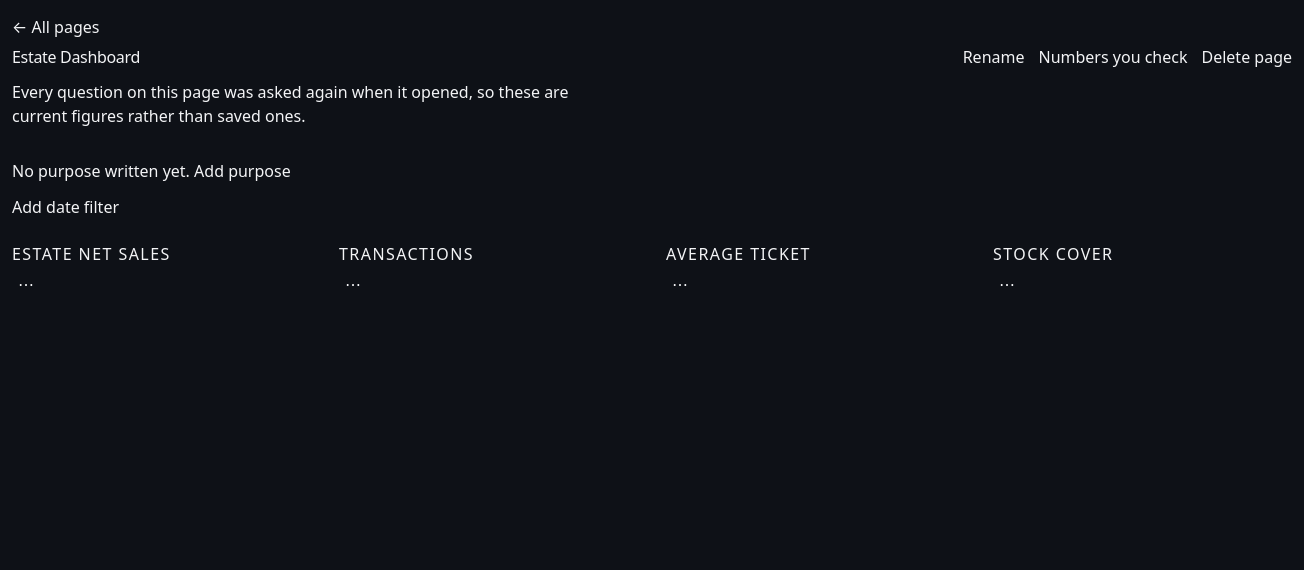
Test: the owner says what the page is › says a derived kind was worked out rather than chosen
Expected: the 1st element with class "r-kept-pin" is shown, [12,222,311,490]
Step 1. Click the button with aria-label "What this page is" → (1113,57), box [1038,42,1188,72]
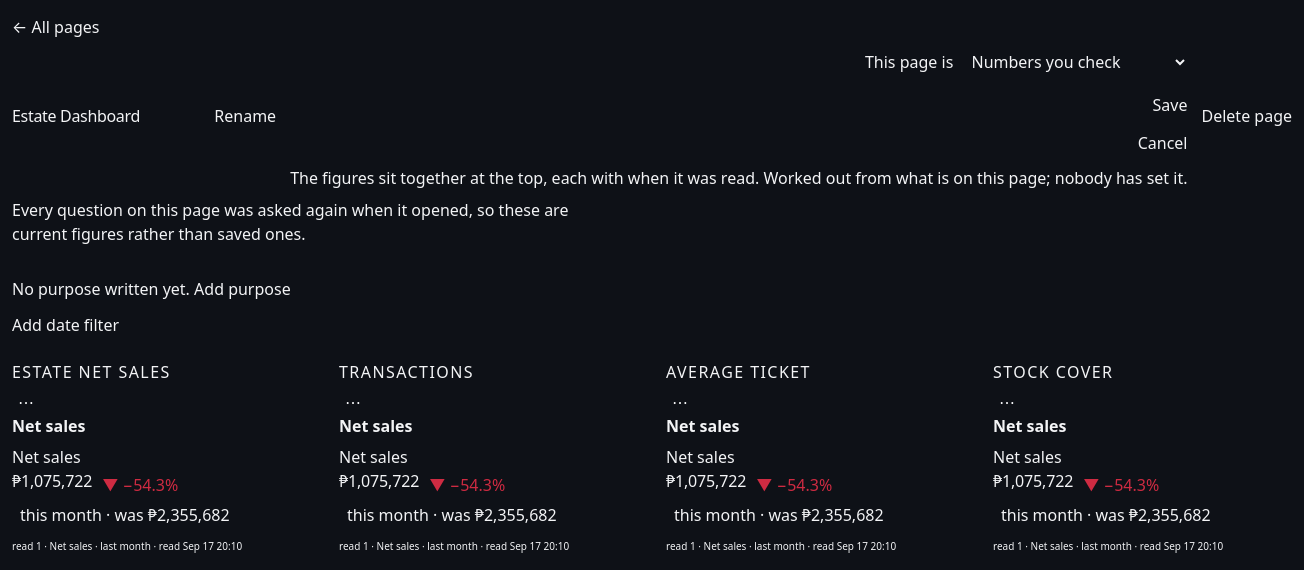
Now the text "nobody has set it" is shown, box [759,167,1188,189]
